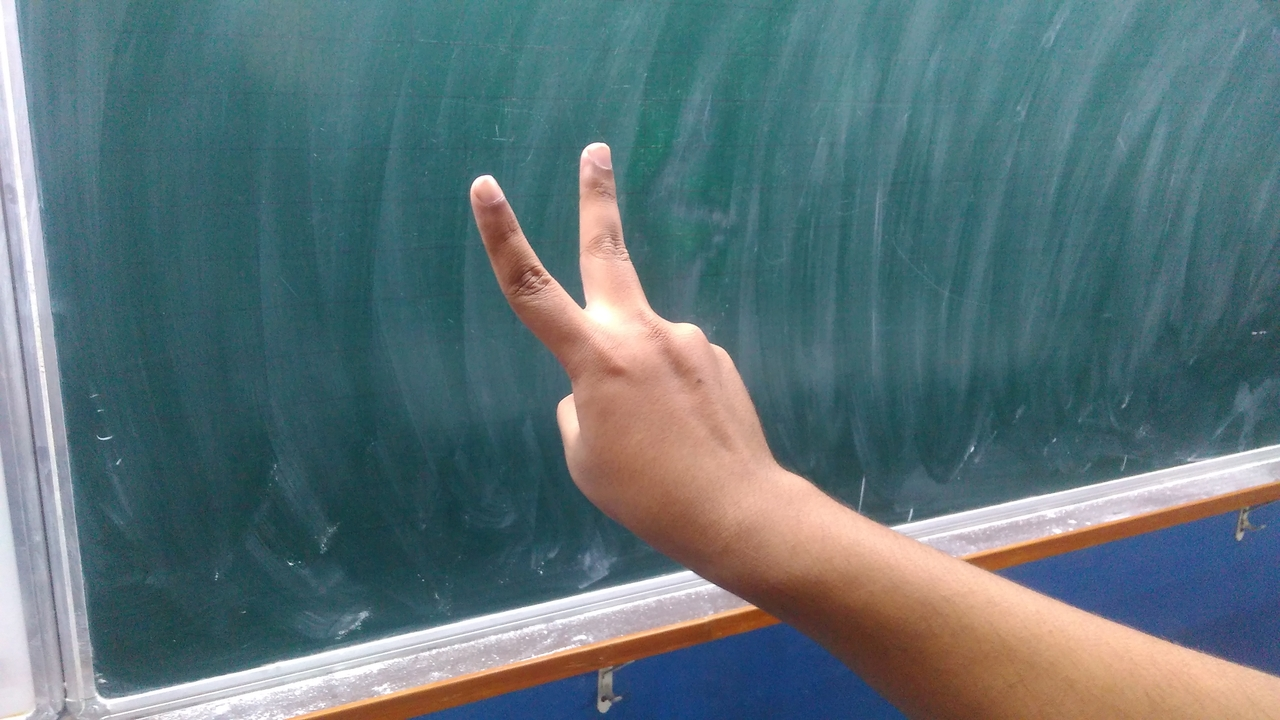fingertip: (458, 164, 518, 220), (564, 134, 624, 178)
